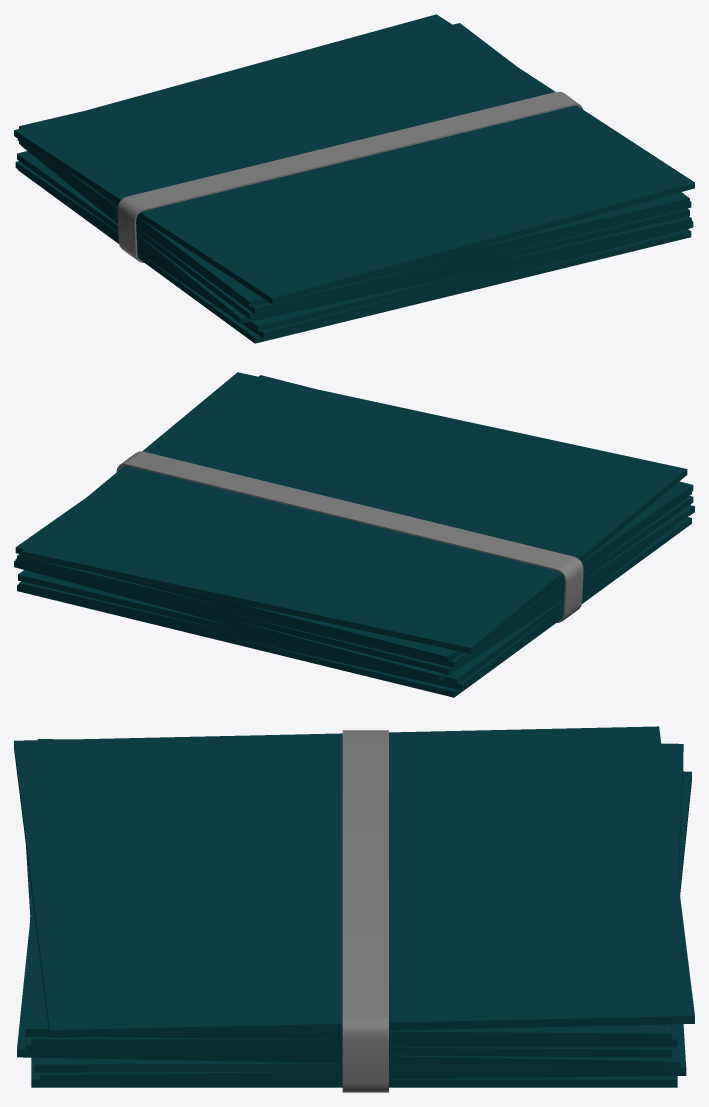
The model's file is METAL-PLAKALAR.fbx.
The picture shows the model from 3 angles, top to bottom: view 1: azimuth 30°, elevation 25°; view 2: azimuth 150°, elevation 25°; view 3: azimuth 270°, elevation 25°; orthographic projection. The views are drawn at different scales.
Visible parts, largest first — view 1: Plane358; view 2: Plane358; view 3: Plane358.
Part boxes in pixels (left/top/right/bottom): Plane358: left=14, top=14, right=694, bottom=343; Plane358: left=14, top=372, right=694, bottom=697; Plane358: left=14, top=726, right=694, bottom=1092.
Bounding box in the file's own units: 37.91 × 4.29 × 35.92.
